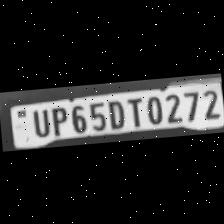0: (142, 92, 166, 125)
2: (198, 85, 221, 120), (161, 90, 183, 124)
5: (86, 100, 106, 132)
6: (65, 101, 88, 133)
7: (178, 86, 201, 122)
D: (106, 97, 127, 128)
P: (46, 104, 69, 136)
T: (123, 94, 145, 128)
U: (28, 105, 52, 138)
